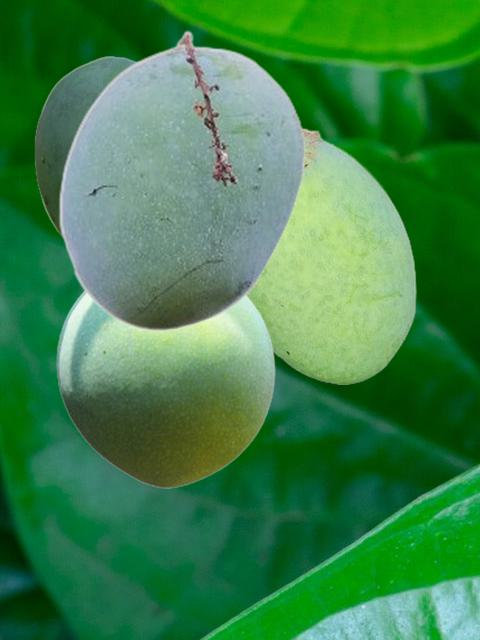green_mango: (58, 30, 305, 330), (56, 290, 274, 487), (250, 127, 415, 383), (34, 56, 137, 240)
